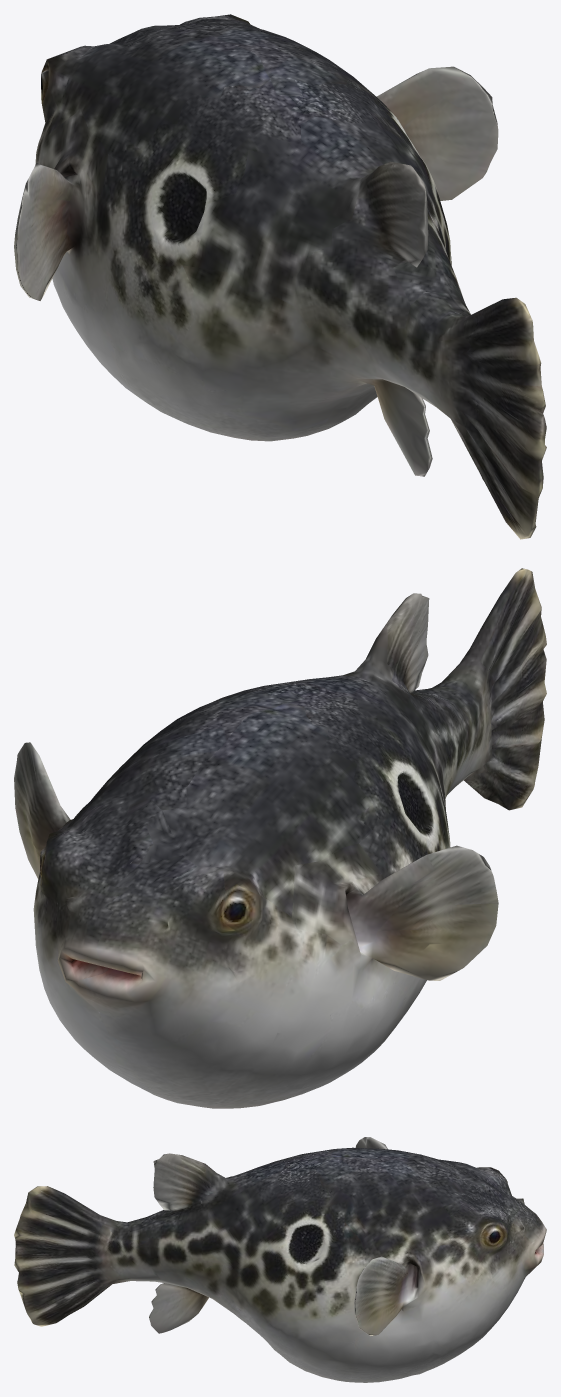
The model's file is puffer.glb.
3 renders of one model, top to bottom at view 1: azimuth 30°, elevation 25°; view 2: azimuth 150°, elevation 25°; view 3: azimuth 270°, elevation 25°, orthographic. The views are drawn at different scales.
Parts seen in each view (by area): view 1: tripo_node_d3e4da4b-7551-4545-a4c5-7dcc90aa5955; view 2: tripo_node_d3e4da4b-7551-4545-a4c5-7dcc90aa5955; view 3: tripo_node_d3e4da4b-7551-4545-a4c5-7dcc90aa5955.
Part boxes in pixels (<box>): tripo_node_d3e4da4b-7551-4545-a4c5-7dcc90aa5955: <box>14,14,546,539</box>; tripo_node_d3e4da4b-7551-4545-a4c5-7dcc90aa5955: <box>14,568,546,1108</box>; tripo_node_d3e4da4b-7551-4545-a4c5-7dcc90aa5955: <box>14,1137,546,1382</box>.
Bounding box in the file's own units: 0.622 × 0.4552 × 1.
1 material, 1 textured.
